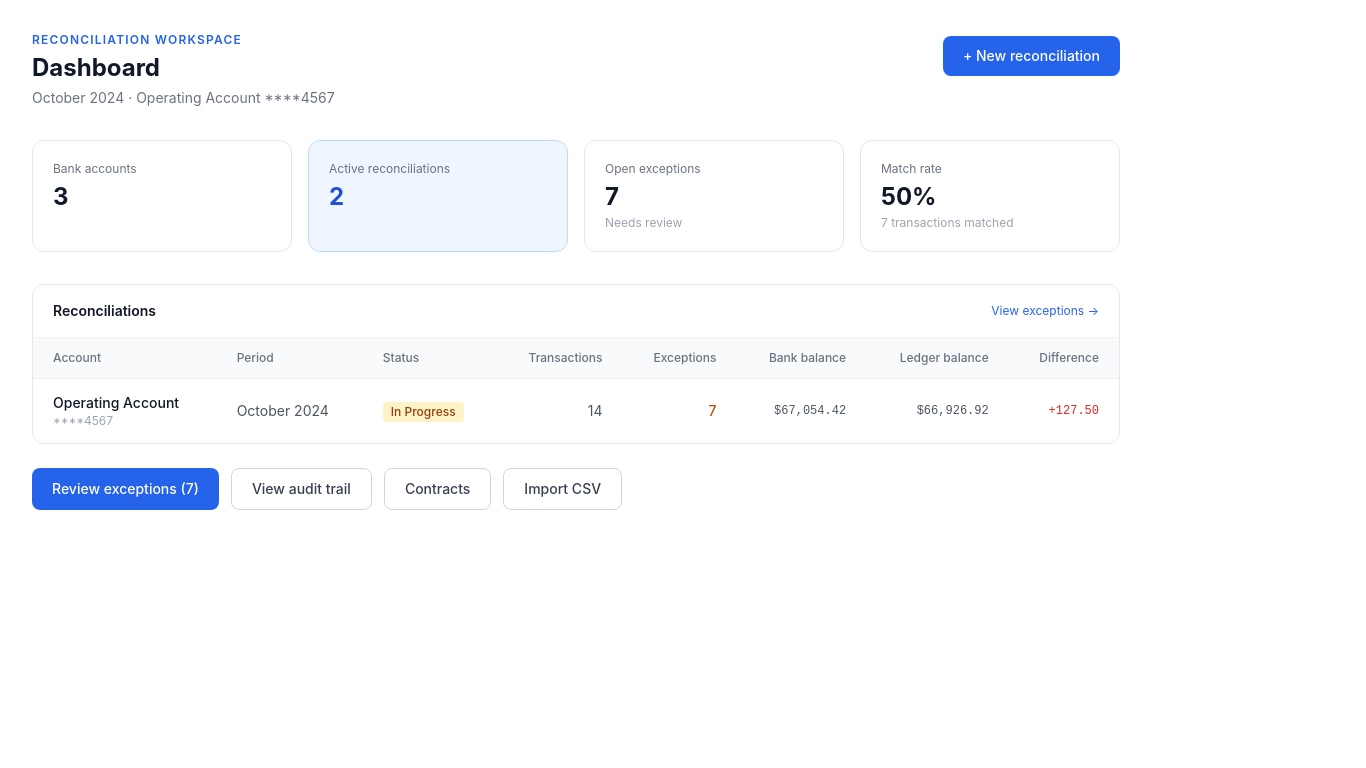
Test: DashboardPage › opens new reconciliation modal on button click
Click the button "+ New reconciliation" at (1031, 56), box [943,36,1120,76]
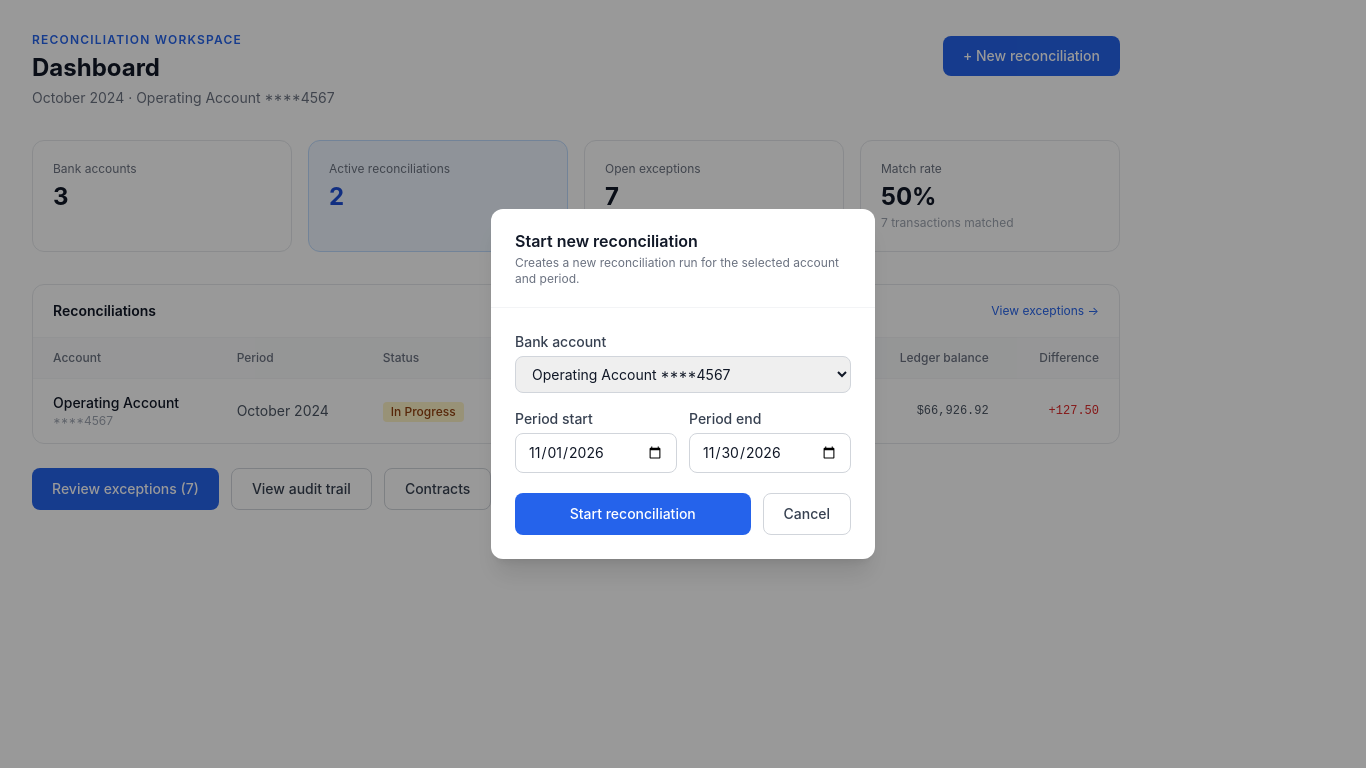
Result: the heading "Start new reconciliation" is shown at [515,231,698,251]
